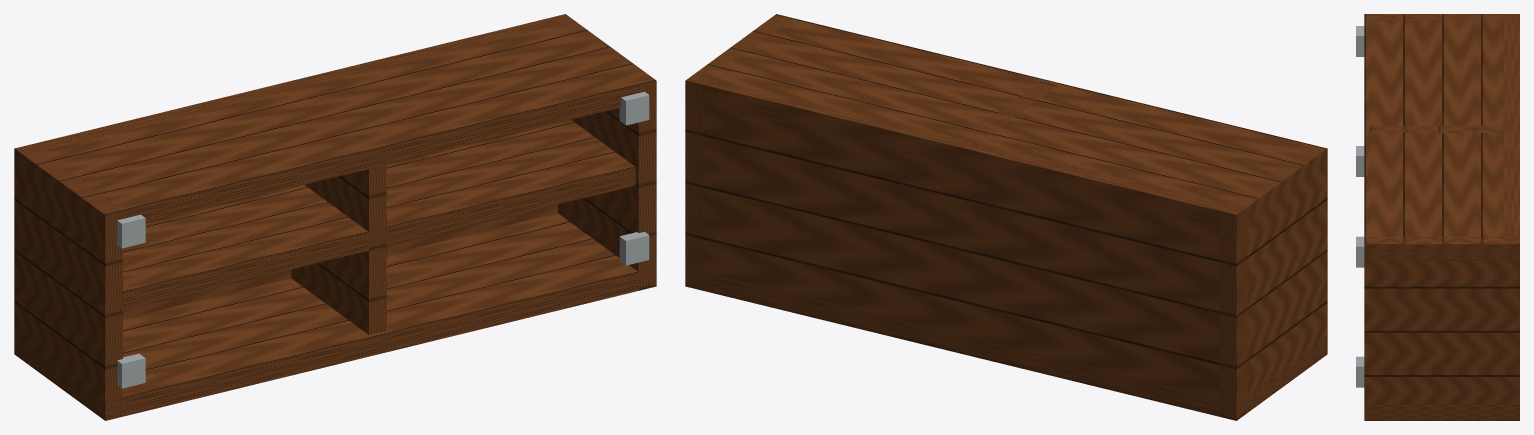
Rendered from suburban-outbreak-interiors-media-console-carcass-12db98c9__19966.glb.
The picture shows the model from 3 angles, left to right: view 1: azimuth 30°, elevation 25°; view 2: azimuth 150°, elevation 25°; view 3: azimuth 270°, elevation 25°; orthographic projection. The views are drawn at different scales.
Parts seen in each view (by area): view 1: media-console-carcass; view 2: media-console-carcass; view 3: media-console-carcass.
Part boxes in pixels (x1,y1,x2,y2): media-console-carcass: (14, 14, 656, 420); media-console-carcass: (685, 14, 1327, 420); media-console-carcass: (1356, 14, 1519, 420).
Size of the model in its own units: 1.4 by 0.4999 by 0.421.
Materials: 2 (1 with a texture image).
